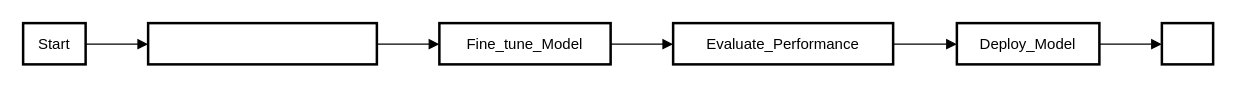
Some shapes in this 1235 by 86 pixel diagram are drawn without their labels. Each missing label, with the box of its shape:
End: (1160, 21, 1214, 65)
Load_Pretrained_Model: (146, 21, 378, 65)
